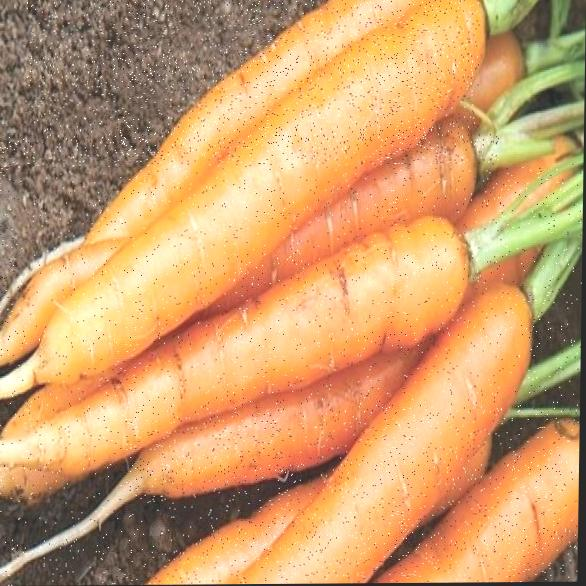carrots: (0, 163, 584, 586), (21, 0, 480, 392), (0, 133, 499, 411), (123, 402, 580, 585)
